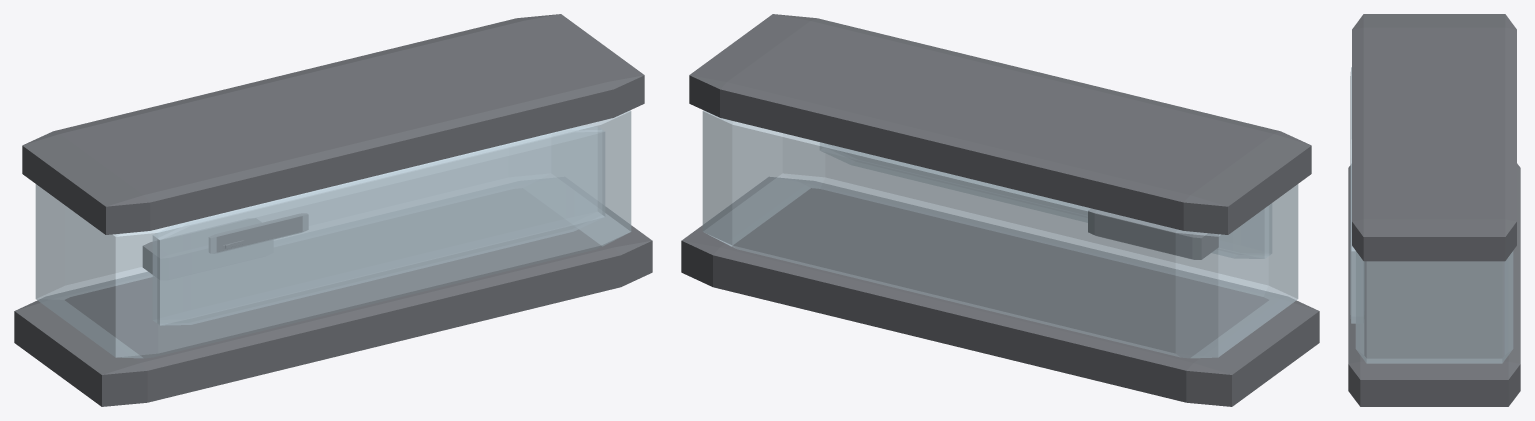
Rendered from b11_window_flower_box_empty.glb.
The picture shows the model from 3 angles, left to right: view 1: azimuth 30°, elevation 25°; view 2: azimuth 150°, elevation 25°; view 3: azimuth 270°, elevation 25°; orthographic projection. The views are drawn at different scales.
Visible parts, largest first — view 1: b11_window_flower_box_empty; view 2: b11_window_flower_box_empty; view 3: b11_window_flower_box_empty.
Boxes of the visible parts, box(x1,y1,x2,y2) form: b11_window_flower_box_empty: box(14, 14, 652, 406); b11_window_flower_box_empty: box(681, 14, 1319, 406); b11_window_flower_box_empty: box(1348, 14, 1520, 406).
Size of the model in its own units: 1.23 by 0.432 by 0.393.
